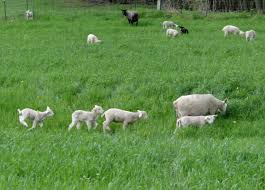sheep: (174, 94, 227, 125), (103, 108, 149, 137), (66, 104, 103, 134), (173, 113, 219, 136), (17, 105, 55, 130), (220, 24, 247, 42), (119, 7, 142, 28), (84, 33, 103, 46), (160, 19, 182, 29), (165, 28, 181, 41), (245, 29, 258, 42), (24, 9, 36, 21), (178, 25, 190, 37)
